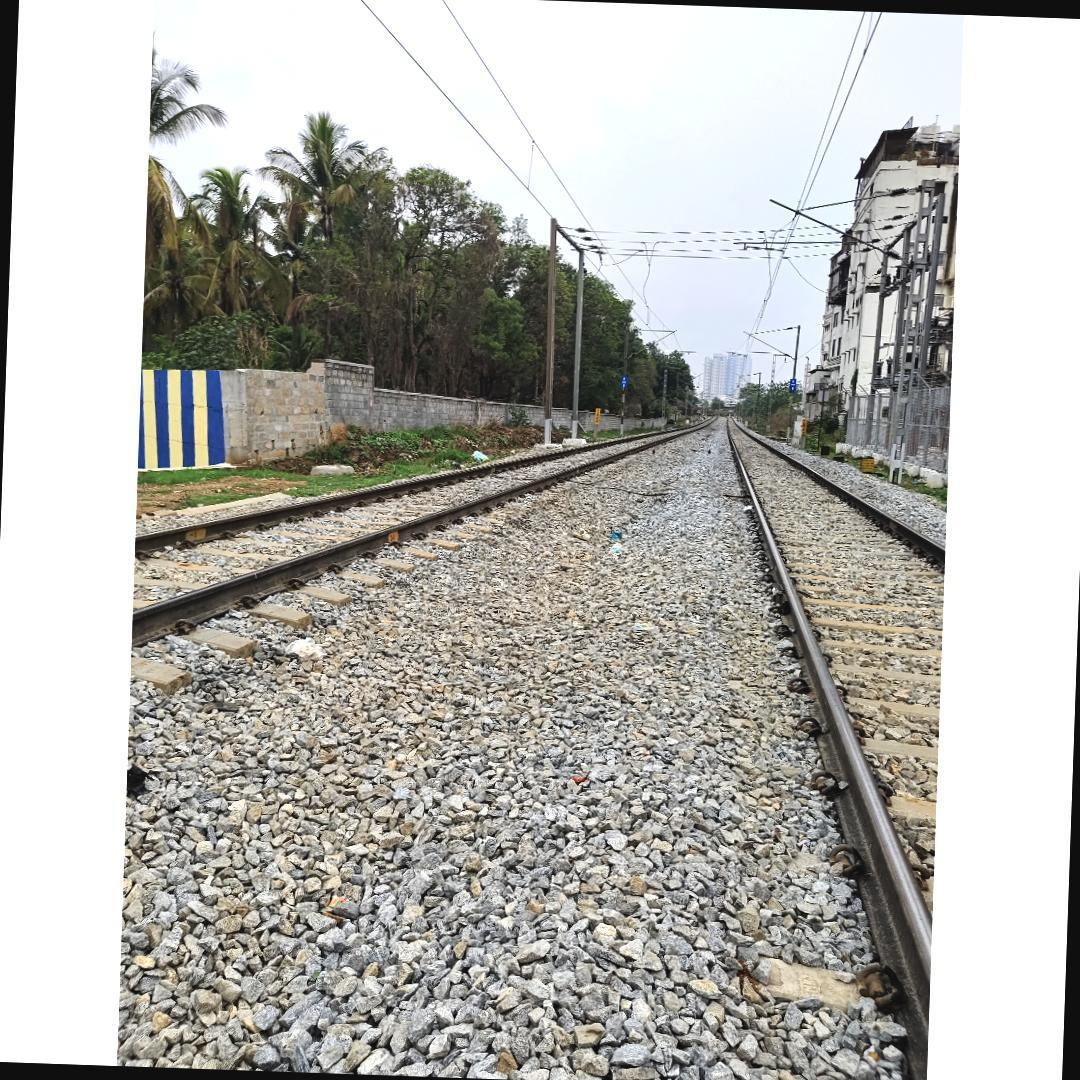track: (130, 418, 719, 683), (717, 413, 946, 1080)
